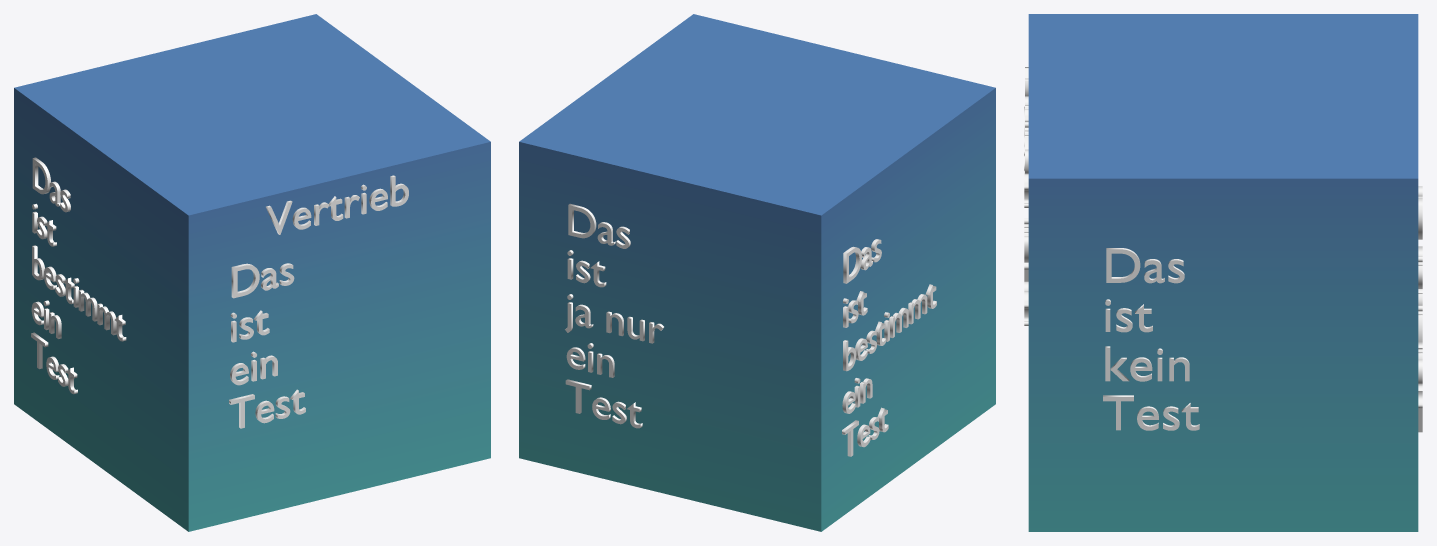
Rendered from Vertriebsbox1.glb.
3 renders of one model, left to right at view 1: azimuth 30°, elevation 25°; view 2: azimuth 150°, elevation 25°; view 3: azimuth 270°, elevation 25°, orthographic. The views are drawn at different scales.
Parts seen in each view (by area): view 1: Cube, T2 Linke Seite.001, T1 Frontseite, Text; view 2: Cube, T2 Linke Seite.001, T2 Linke Seite.002; view 3: Cube, T2 Rechte Seite, T2 Linke Seite.002, T1 Frontseite.
Part boxes in pixels (box(x1,y1,x2,y2)): Cube: box(14, 14, 490, 531); T2 Linke Seite.001: box(31, 157, 126, 394); T1 Frontseite: box(229, 263, 305, 428); Text: box(266, 175, 408, 234); Cube: box(519, 14, 995, 531); T2 Linke Seite.001: box(842, 239, 936, 456); T2 Linke Seite.002: box(565, 203, 663, 428); Cube: box(1028, 14, 1418, 531); T2 Rechte Seite: box(1103, 248, 1199, 430); T2 Linke Seite.002: box(1418, 186, 1422, 432); T1 Frontseite: box(1024, 106, 1028, 325).
Bounding box in the file's own units: 2.04 × 2 × 2.04.
6 materials, 1 textured.
